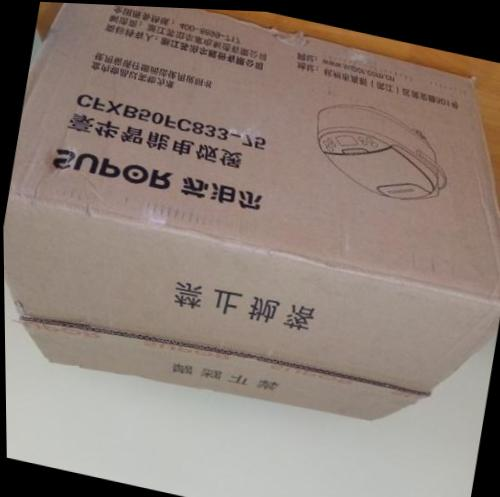cardboard: (4, 3, 499, 496)
